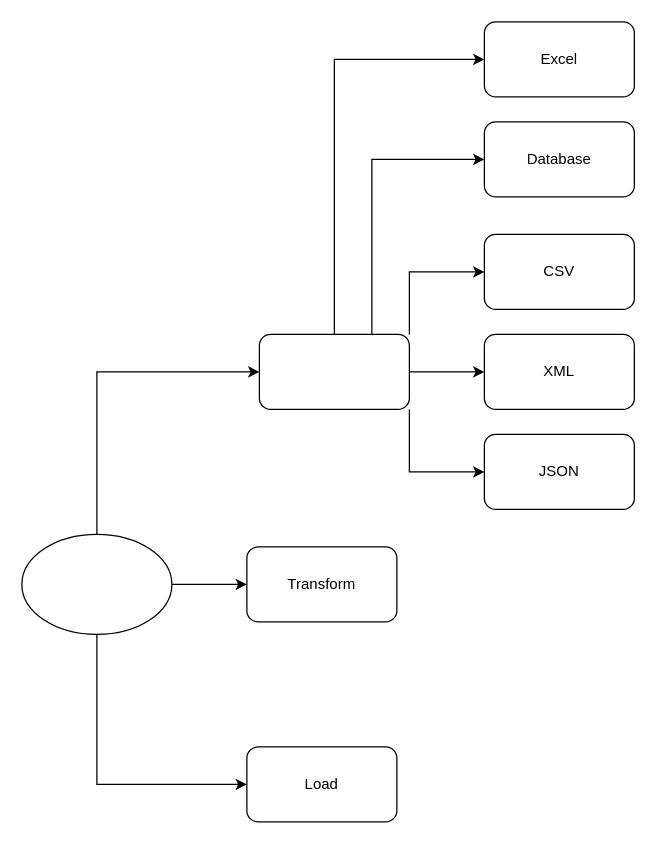
Image size: 656x844. Some labels were removed from this diagram. Here are the shapes that lost their labels. From the top down, the box of each, then its label:
(258, 333, 409, 409): Data Extraction
(21, 533, 172, 634): Structured data & Transportation
